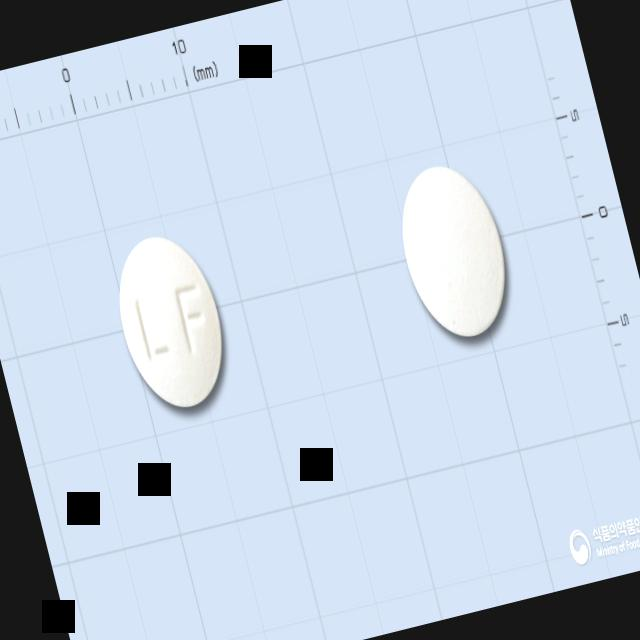Levofloxacin Tab- Withus: (102, 224, 238, 418)
